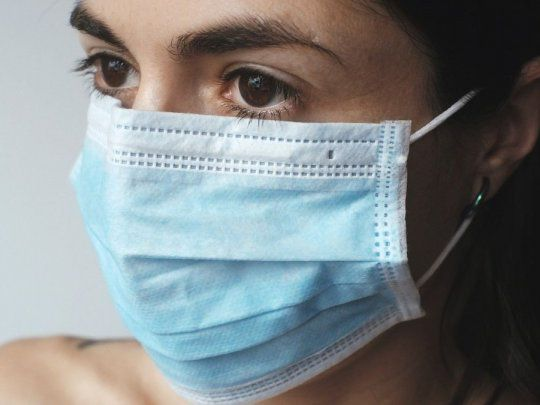barbijo: (61, 68, 433, 399)
